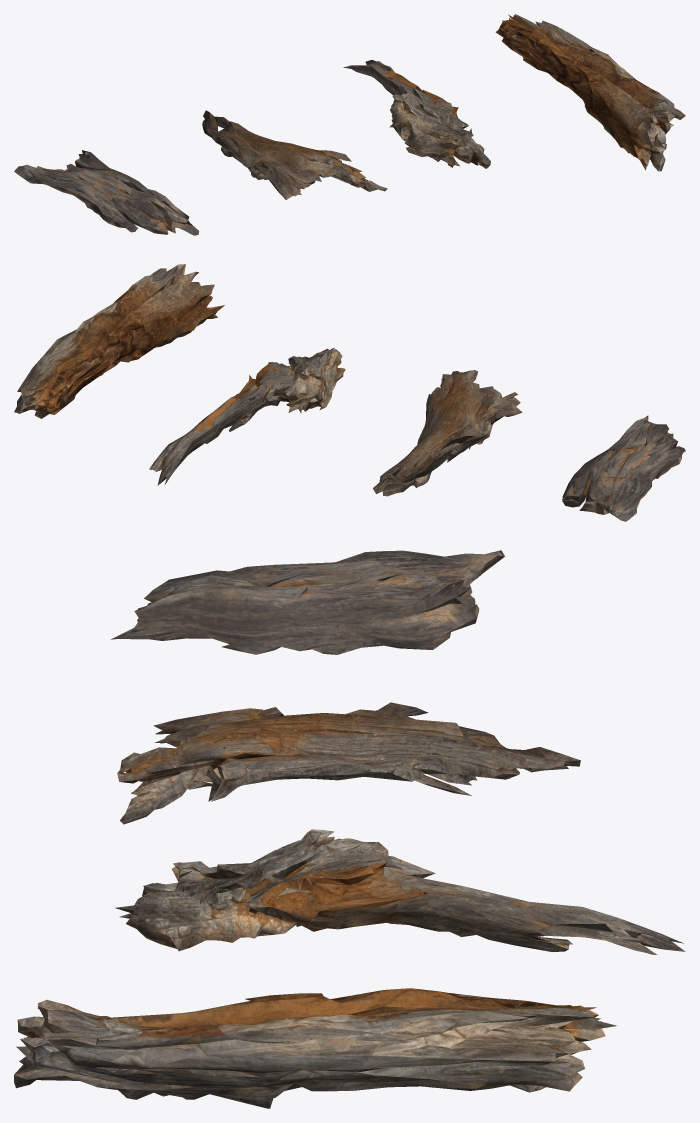
The model's file is bark_debris.glb.
The picture shows the model from 3 angles, top to bottom: view 1: azimuth 30°, elevation 25°; view 2: azimuth 150°, elevation 25°; view 3: azimuth 270°, elevation 25°; orthographic projection. The views are drawn at different scales.
Parts seen in each view (by area): view 1: bark_debris; view 2: bark_debris; view 3: bark_debris.
Boxes of the visible parts, x1=… form: bark_debris: x1=14, y1=14, x2=685, y2=235; bark_debris: x1=14, y1=264, x2=685, y2=521; bark_debris: x1=14, y1=550, x2=685, y2=1108.
Bounding box in the file's own units: 1.21 × 0.1095 × 0.6682.
Materials: 1 (1 with a texture image).
